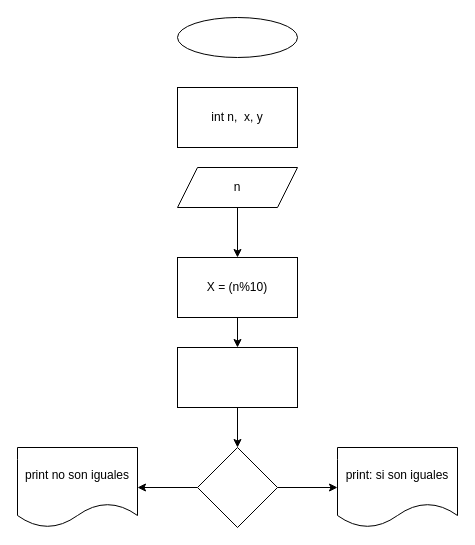
This 475x545 diagram has some shape labels left out. Here are the shapes that lost their labels. From the top down, the centre of each, then its label:
(237,37): INICIO
(237,377): Y = (n//10)%10
(237,487): X = Y
